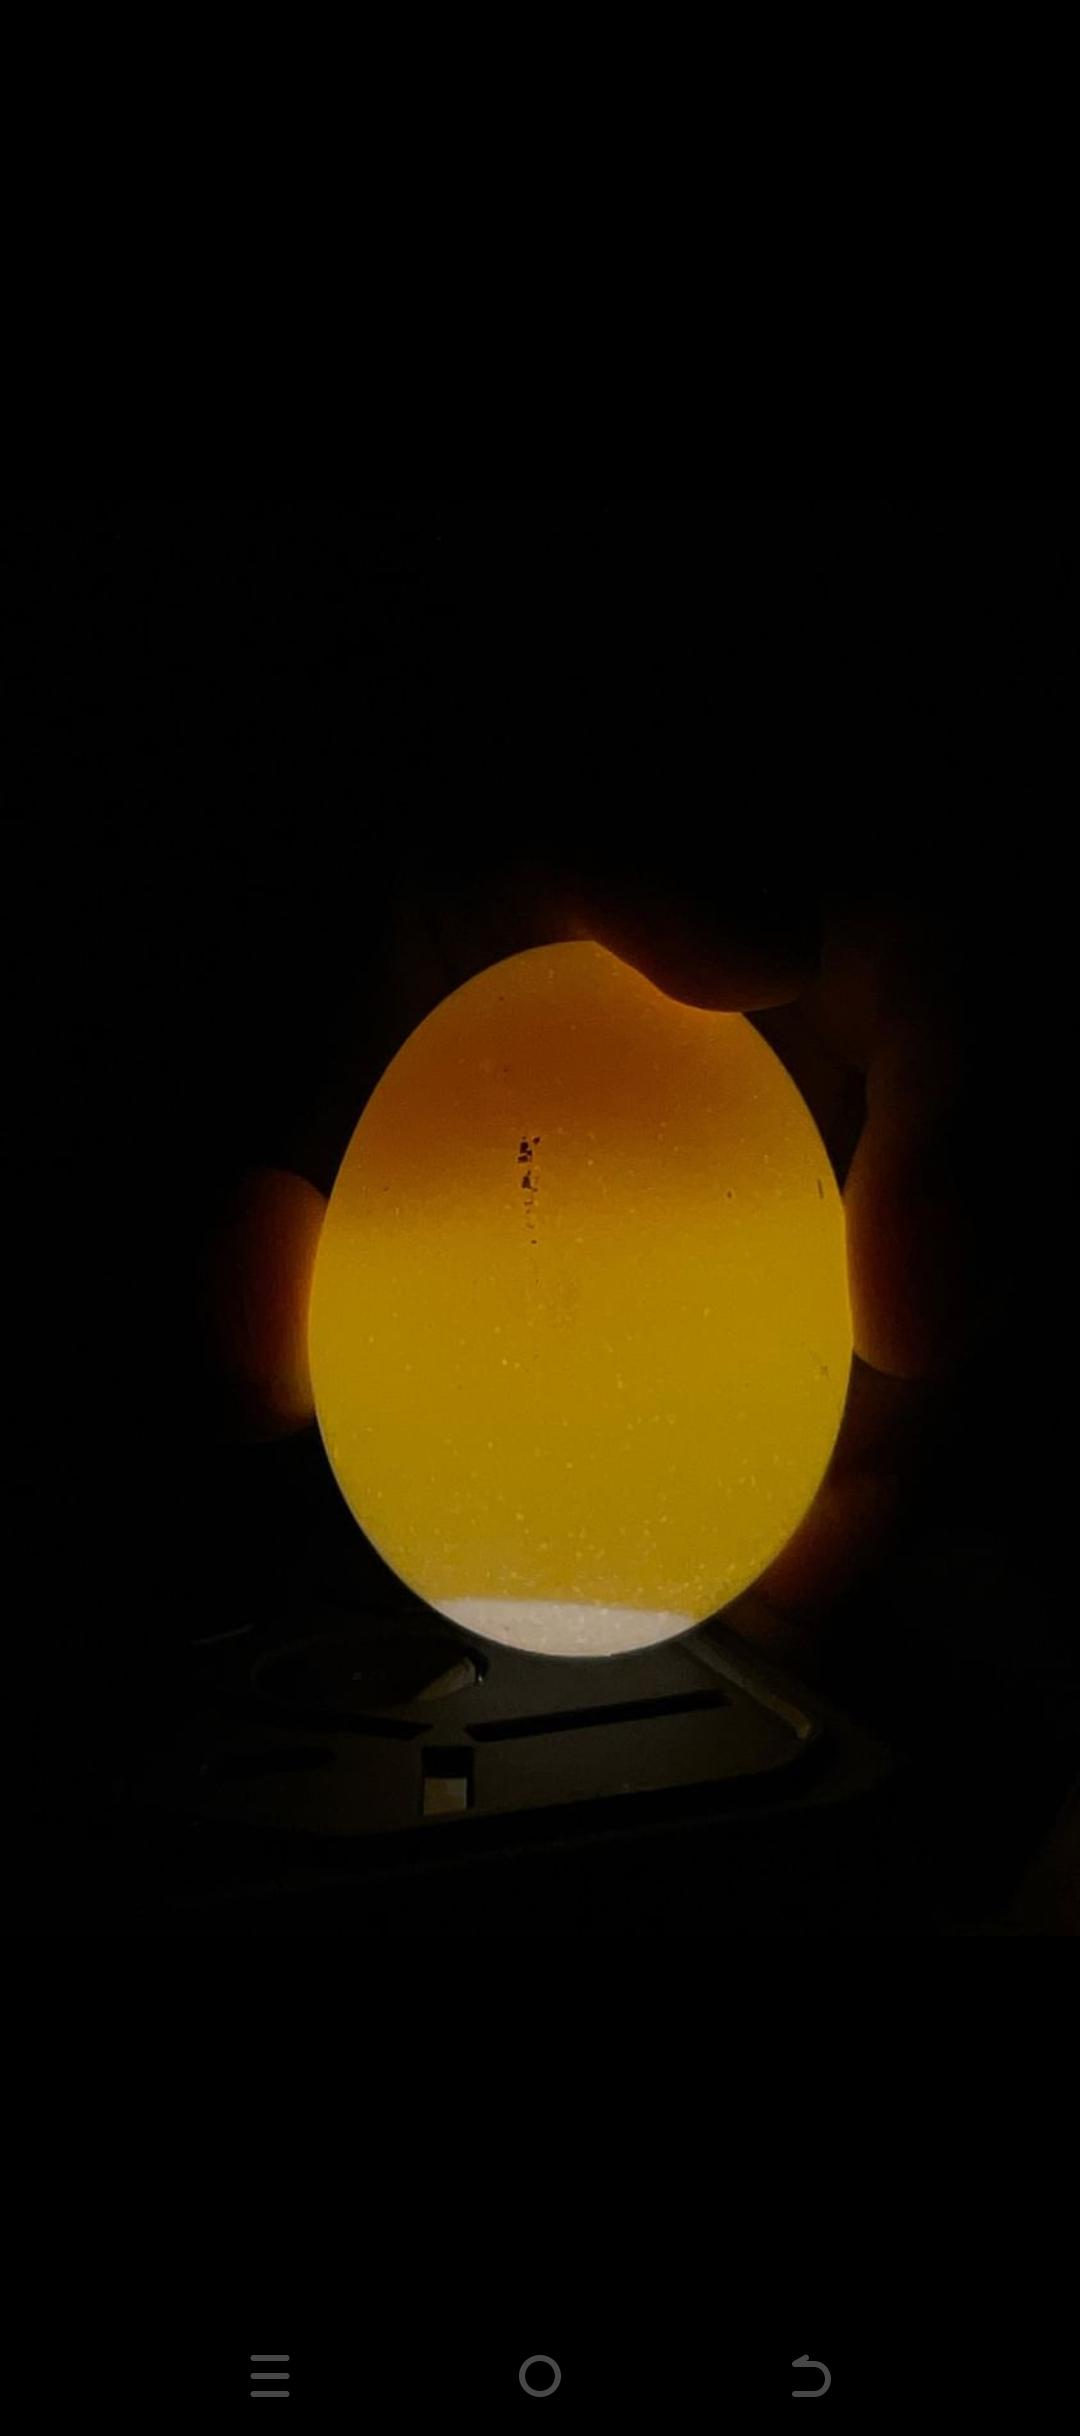A - Good: (294, 923, 880, 1676)
